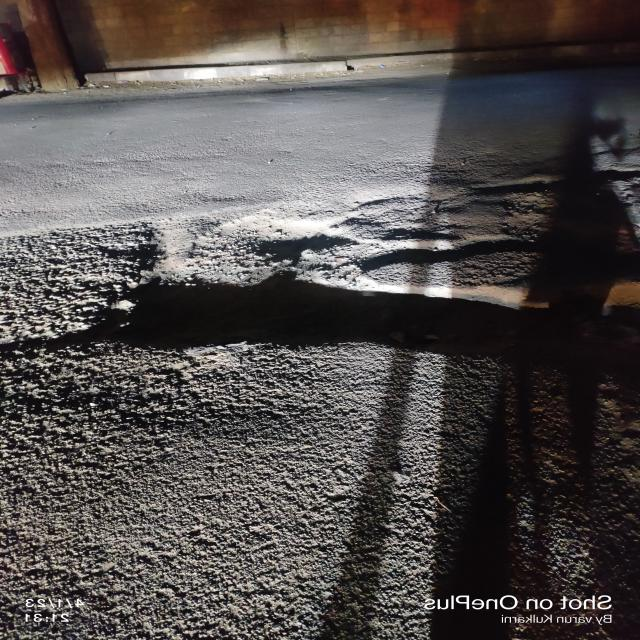potholes: (94, 274, 555, 374), (462, 170, 568, 202), (250, 231, 350, 258), (339, 255, 529, 269), (354, 182, 426, 212), (376, 227, 463, 245)
